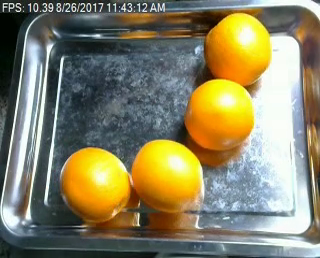Orange: (130, 139, 205, 213), (59, 146, 131, 222), (185, 78, 255, 150), (203, 12, 272, 83)
